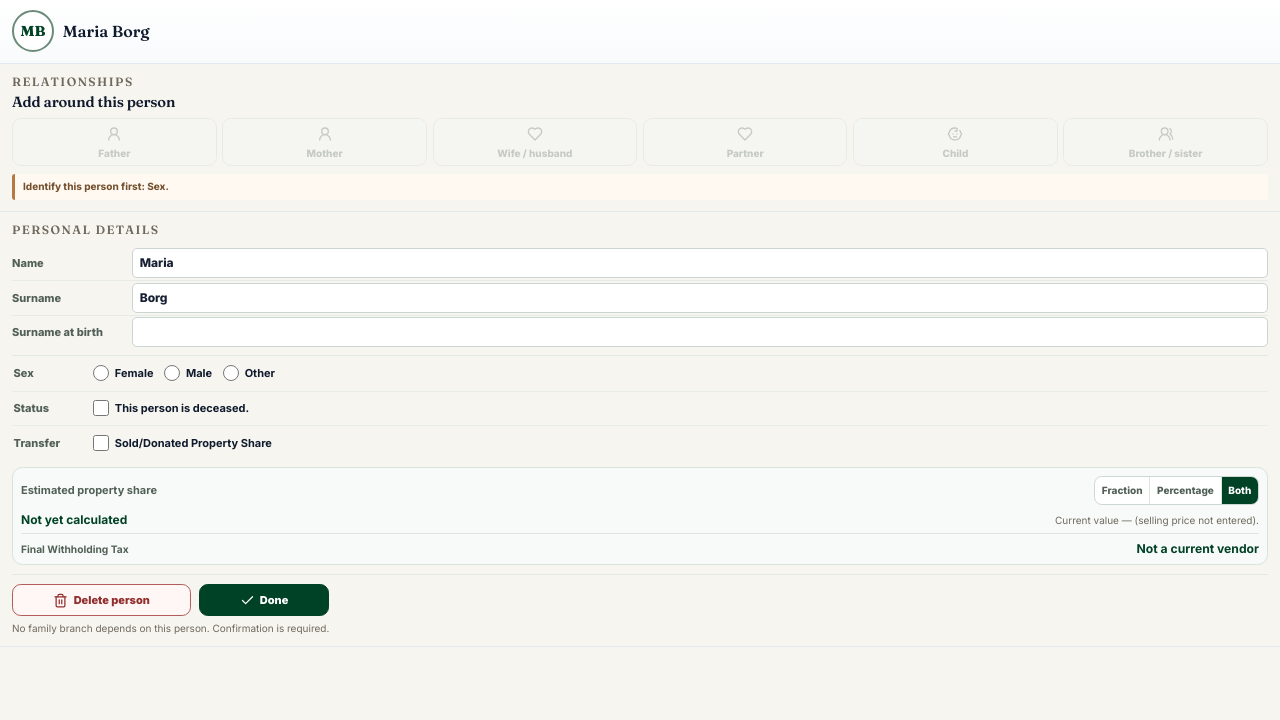
Test case: PersonInspector › places Done immediately after Delete person at the bottom
Expected: the element with class "inspector-profile" does not show "Done"
Click the button "Done": coordinates (264, 600) [199, 584, 329, 616]
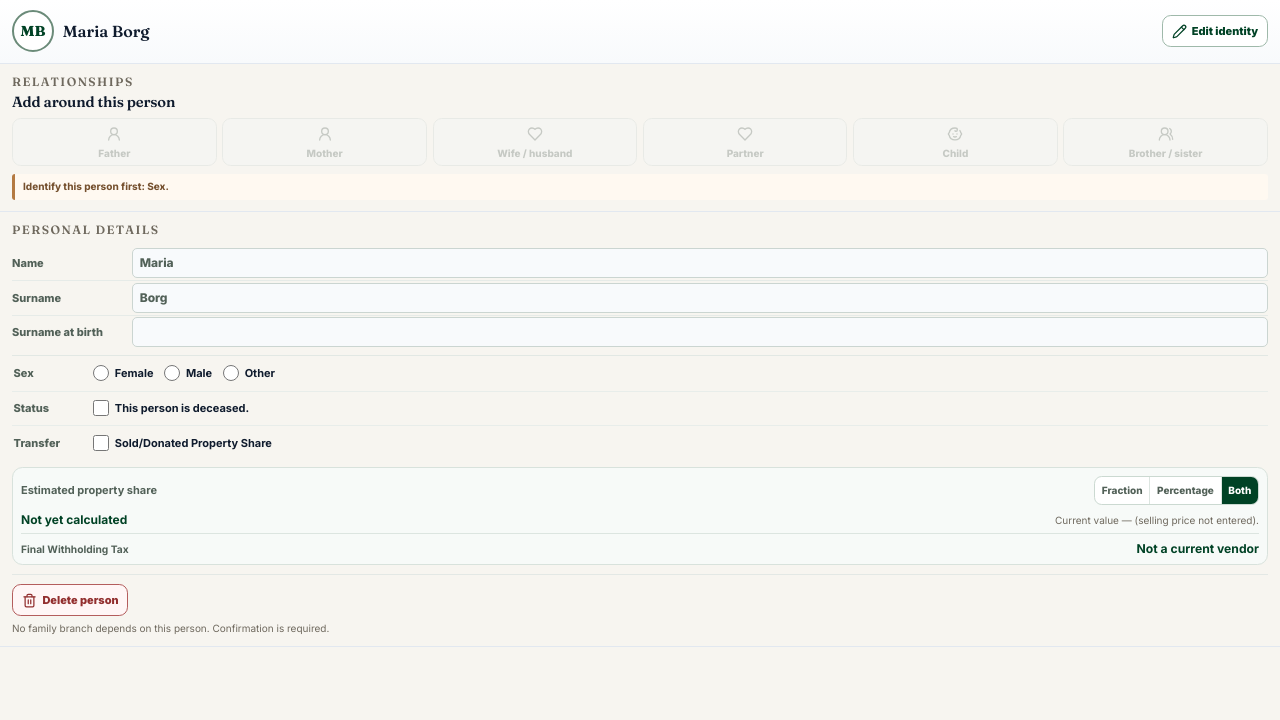
Result: the element showing "Name Surname Surname at birth" is disabled at [12, 241, 1268, 349]
Result: the element with class "inspector-profile" shows "Edit identity" at [1162, 15, 1268, 47]
